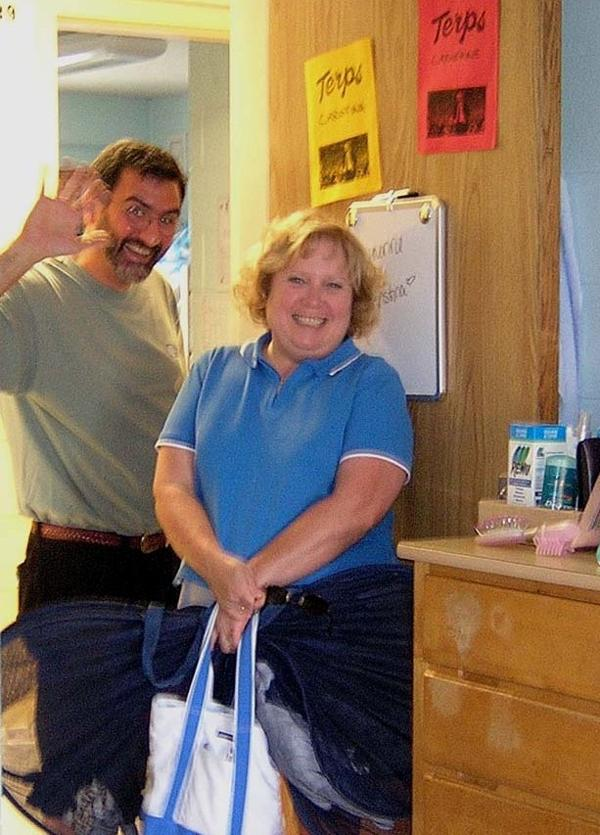person: (1, 138, 191, 835)
